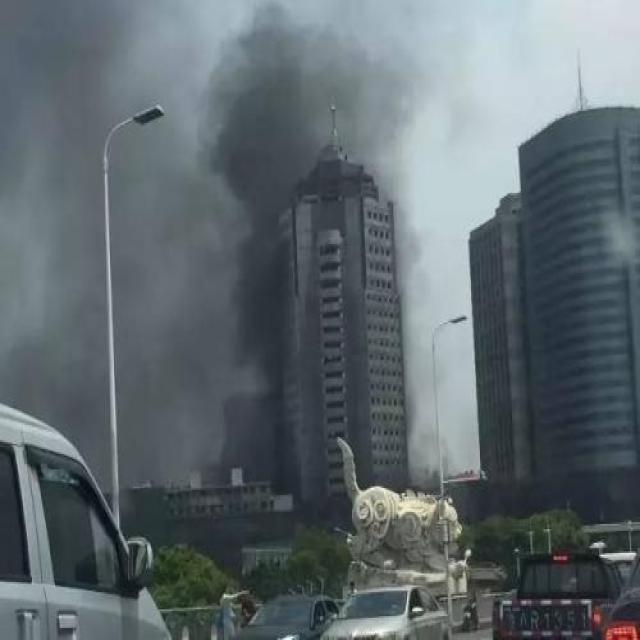Smoke: (1, 1, 456, 512)
